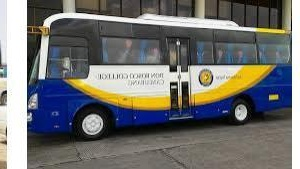bus: (36, 13, 291, 133)
